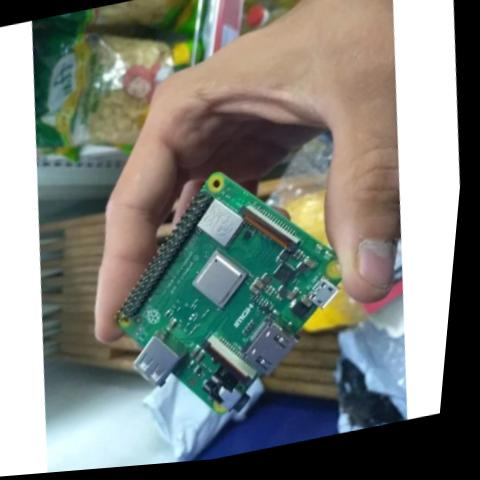Raspberry-Pi-3-Model-A-: (93, 146, 380, 446)
